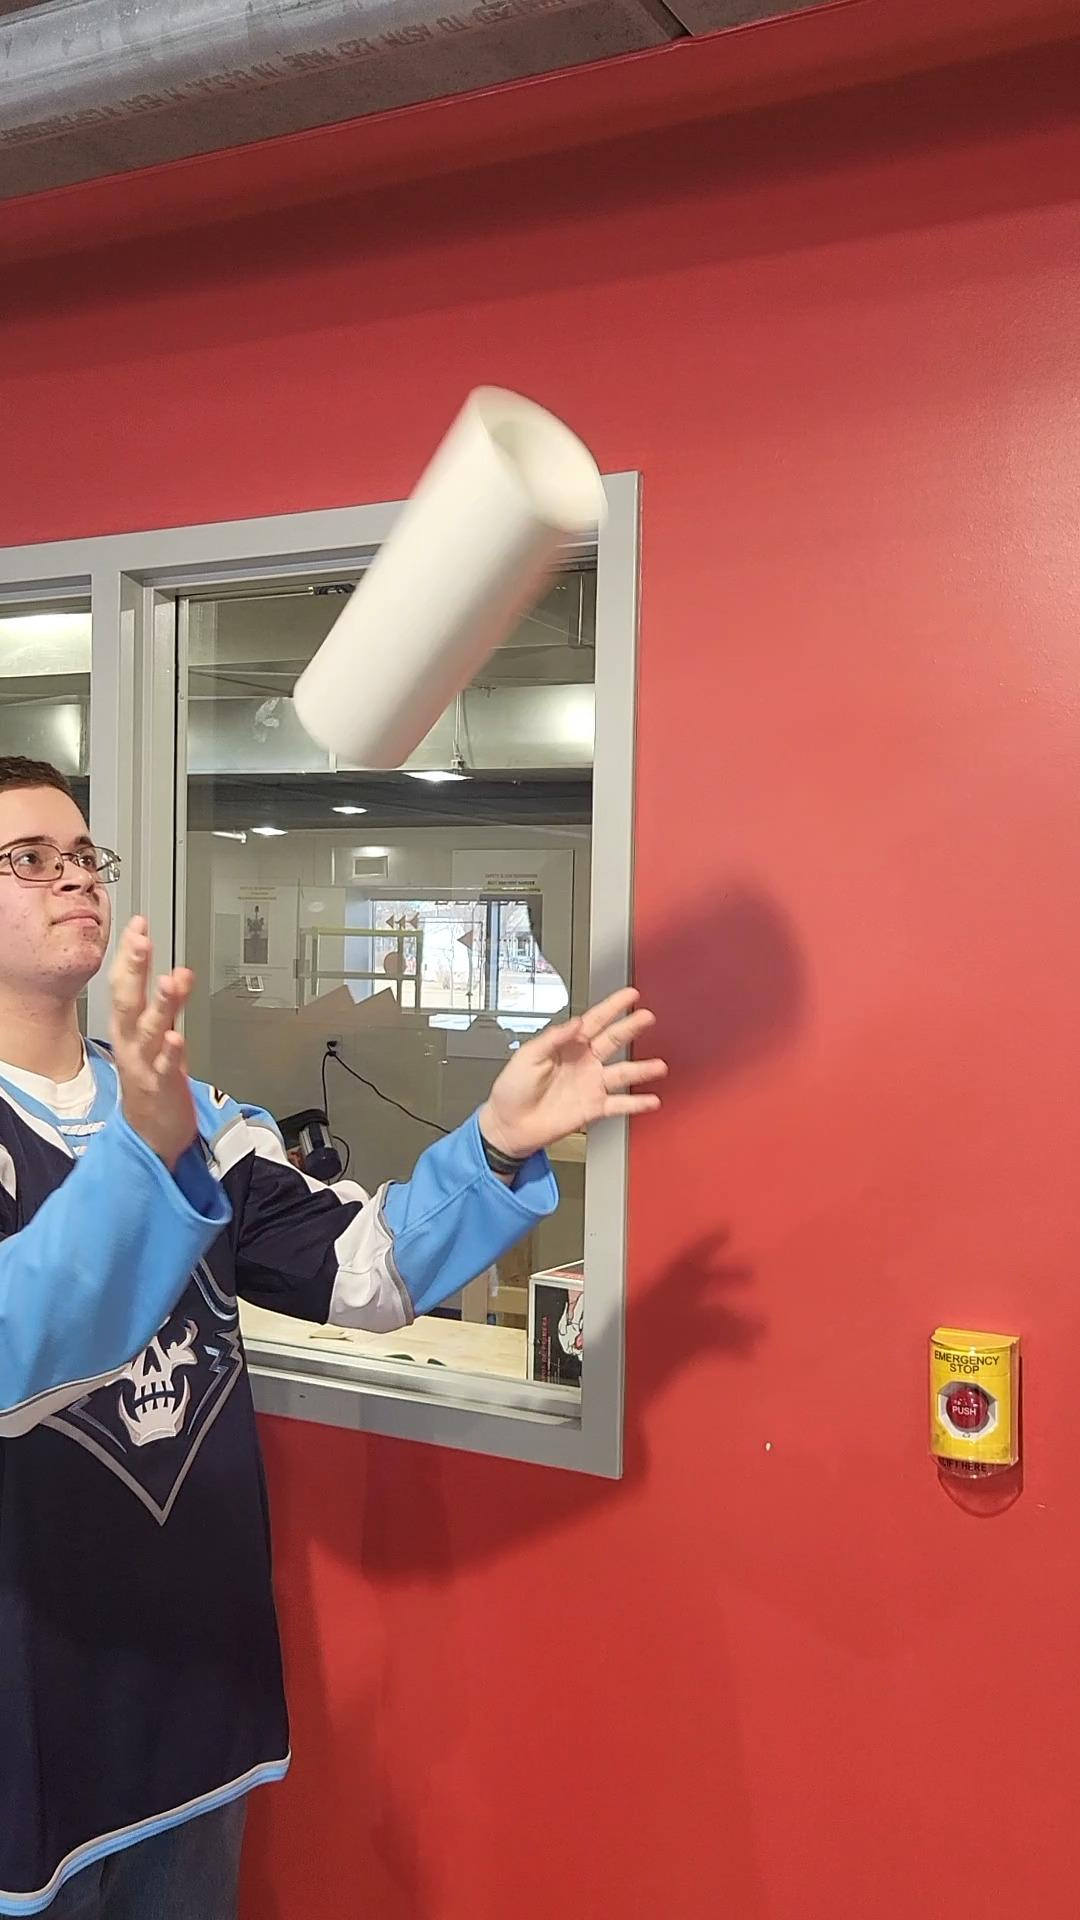coral: (303, 377, 617, 773)
